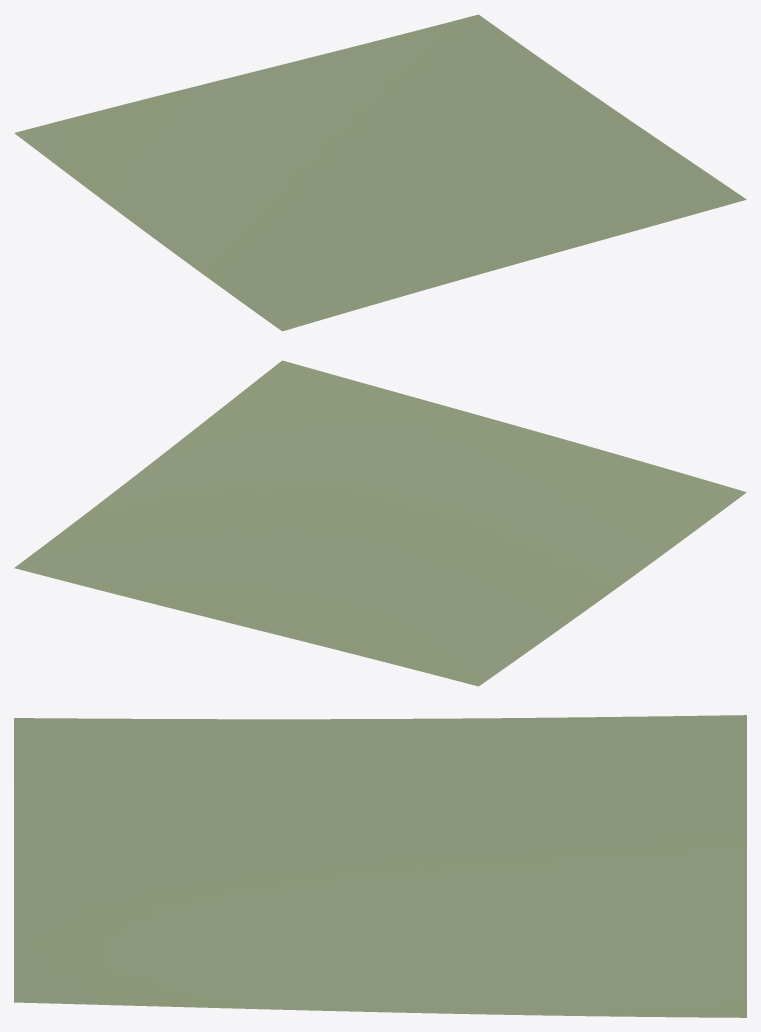
Rendered from expanse-10-3.glb.
3 renders of one model, top to bottom at view 1: azimuth 30°, elevation 25°; view 2: azimuth 150°, elevation 25°; view 3: azimuth 270°, elevation 25°, orthographic. The views are drawn at different scales.
Visible parts, largest first — view 1: expanse-10-3; view 2: expanse-10-3; view 3: expanse-10-3.
Boxes of the visible parts, x1,y1,x2,y2 form: expanse-10-3: (14,14,746,331); expanse-10-3: (14,360,746,686); expanse-10-3: (14,715,746,1017).
Bounding box in the file's own units: 256 × 10.2 × 256.
